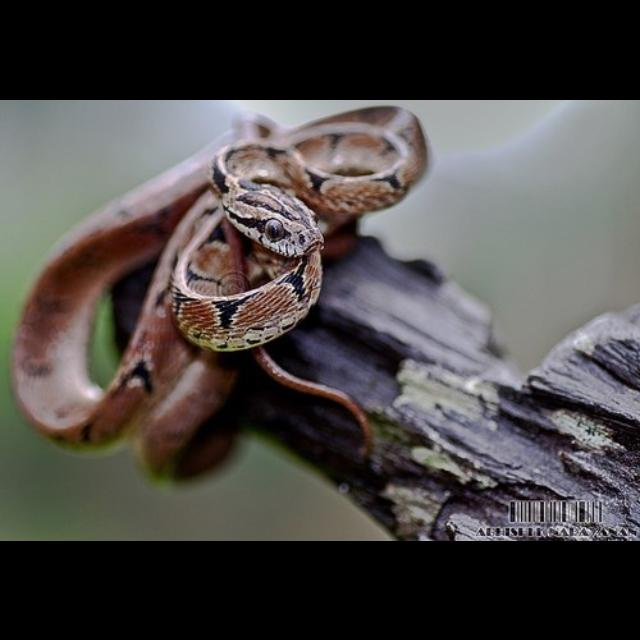snake: (14, 106, 430, 444)
